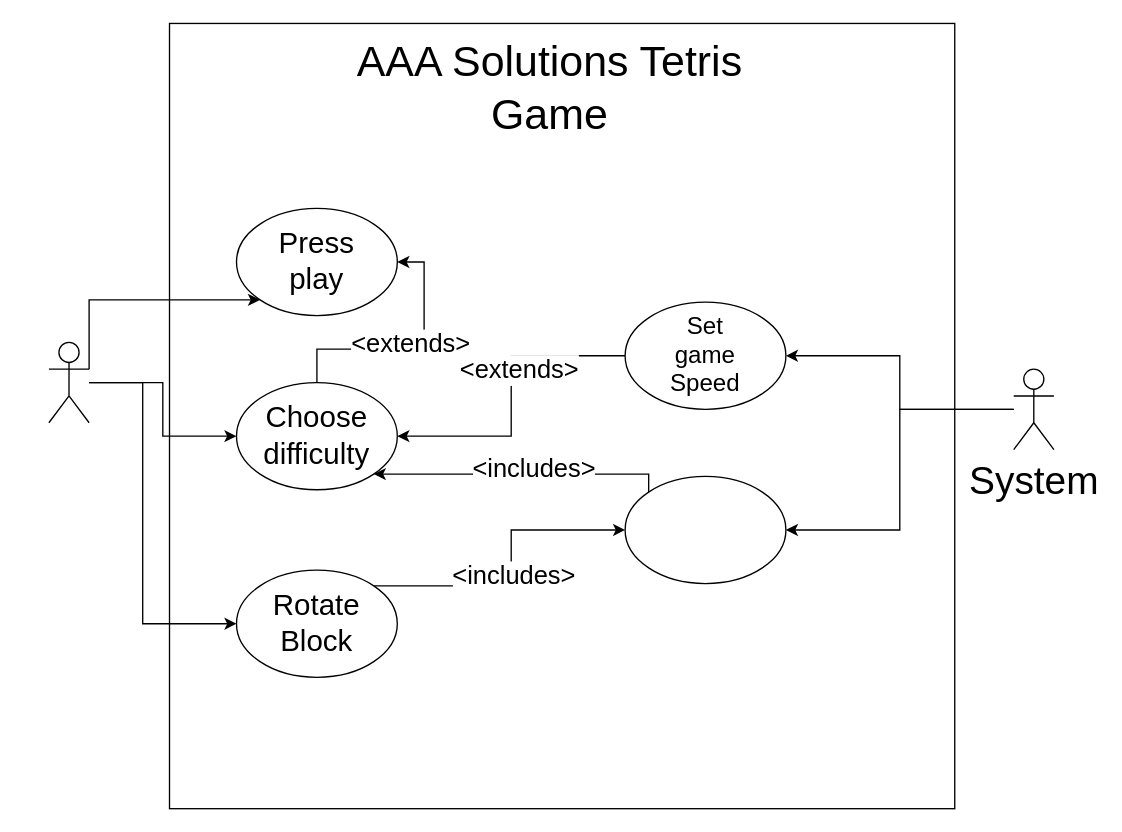
This 1122x832 diagram has some shape labels left out. Here are the shapes that lost their labels. From the top down, the centre of each, then its label:
At pixel 68 382: "User".
At pixel 705 529: "Generate Block".
